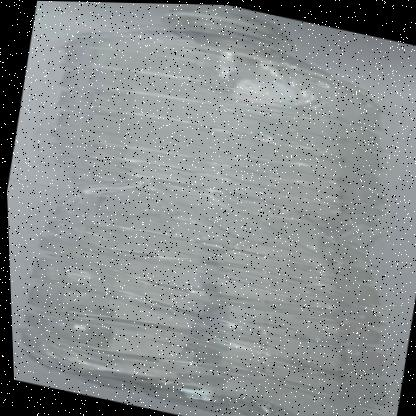open bottle: (32, 1, 416, 136)
